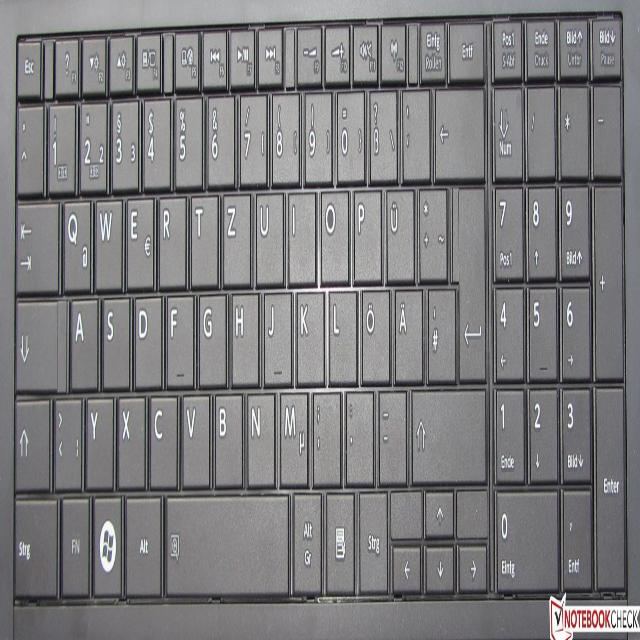0: (334, 82, 364, 180)
1: (46, 95, 75, 193)
2: (77, 94, 106, 192)
3: (108, 91, 138, 190)
4: (140, 90, 169, 186)
5: (171, 89, 201, 185)
6: (204, 86, 234, 184)
7: (237, 85, 267, 183)
8: (269, 84, 298, 183)
9: (301, 83, 331, 182)
a: (68, 289, 97, 387)
accent: (399, 80, 429, 178)
ae: (391, 278, 422, 381)
alt-left: (123, 485, 160, 593)
altgr-right: (290, 483, 321, 592)
b: (211, 382, 242, 484)
c: (147, 385, 177, 486)
caret: (15, 97, 42, 192)
comma: (309, 381, 339, 482)
d: (131, 285, 160, 386)
del: (432, 79, 483, 177)
e: (123, 188, 153, 287)
enter: (450, 176, 486, 379)
f: (163, 285, 193, 384)
g: (195, 283, 225, 384)
h: (227, 283, 258, 383)
hash: (425, 278, 454, 380)
i: (285, 183, 314, 282)
j: (261, 282, 290, 383)
k: (293, 280, 323, 382)
keyboard: (8, 6, 627, 609)
l: (327, 280, 356, 382)
less: (51, 388, 81, 486)
m: (276, 380, 307, 483)
minus: (375, 381, 405, 480)
n: (243, 382, 274, 483)
o: (316, 180, 347, 280)
oe: (358, 278, 388, 382)
p: (349, 179, 380, 280)
plus: (415, 178, 446, 279)
point: (343, 381, 372, 481)
q: (59, 189, 90, 290)
r: (156, 187, 186, 287)
s: (100, 288, 129, 386)
shift-left: (13, 390, 49, 488)
shift-lock: (13, 291, 60, 388)
shift-right: (407, 378, 486, 480)
space: (164, 484, 287, 595)
ss: (366, 83, 396, 180)
strg-left: (11, 489, 56, 596)
strg-right: (356, 482, 387, 592)
t: (187, 185, 217, 284)
tab: (14, 192, 57, 290)
u: (252, 182, 283, 284)
ue: (382, 178, 413, 281)
v: (179, 383, 208, 483)
w: (92, 189, 121, 289)
x: (114, 386, 144, 485)
y: (83, 388, 112, 485)
z: (219, 183, 249, 285)
